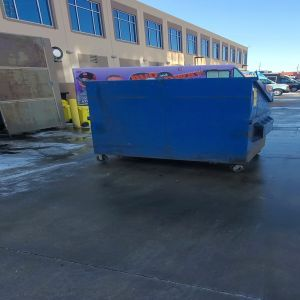Dumpster: (80, 80, 274, 176)
